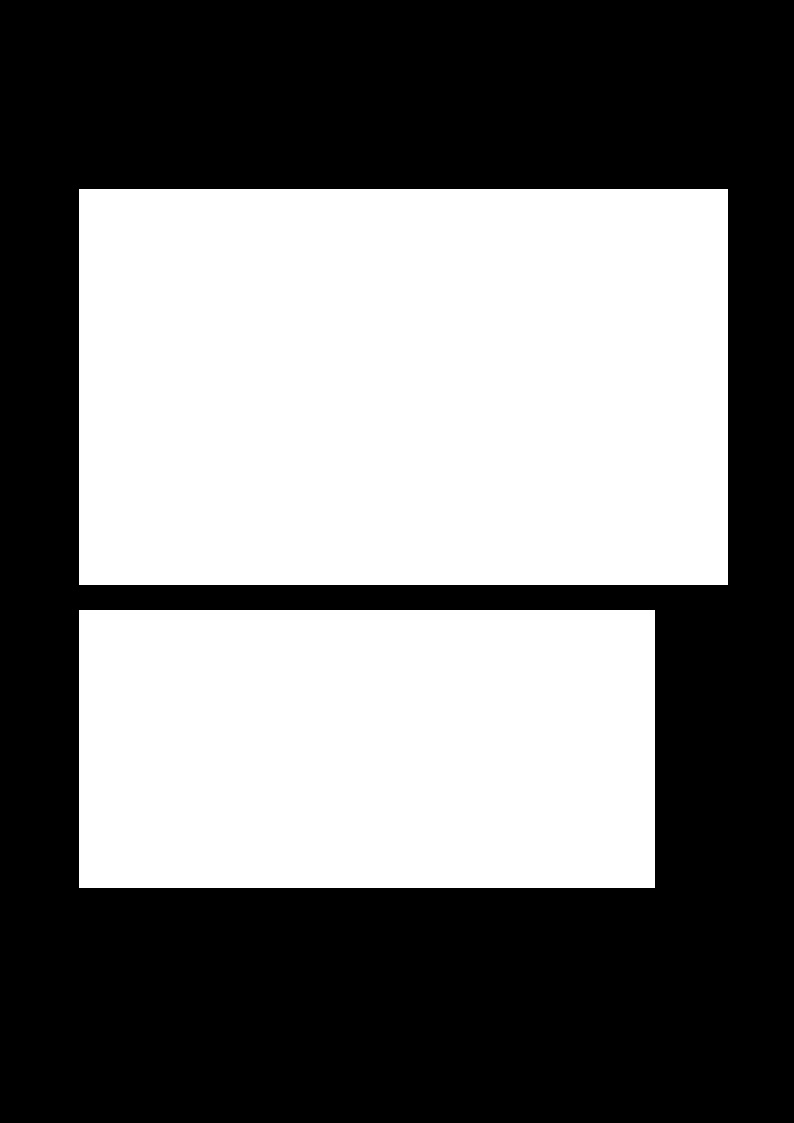table: (79, 189, 727, 584), (79, 610, 654, 887)
